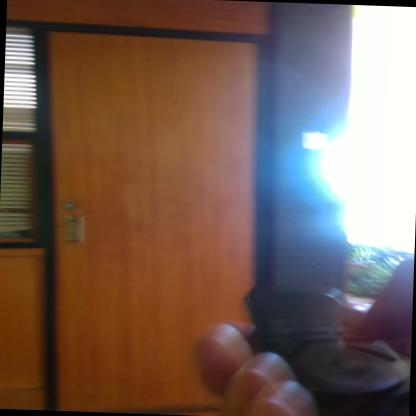closed: (19, 27, 277, 416)
